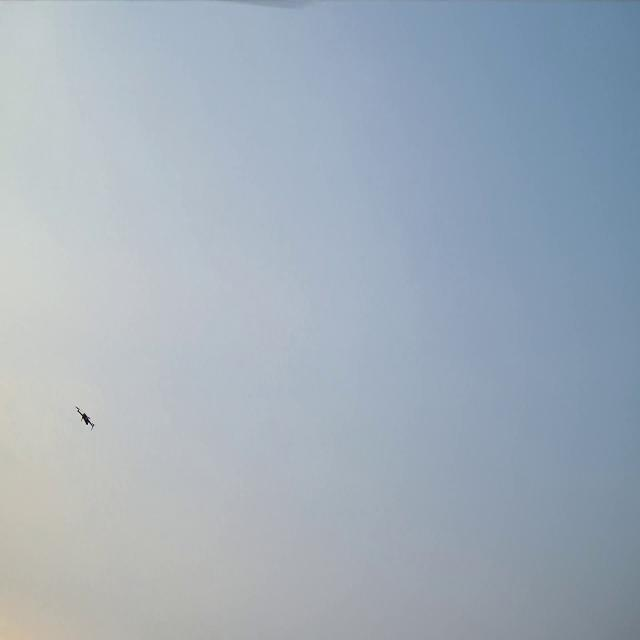UAV: (78, 408, 94, 428)
